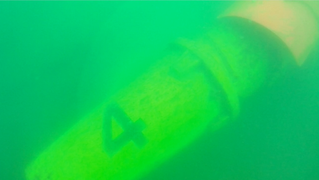4: (103, 103, 147, 155)
leak: (216, 1, 319, 66)
pipe: (25, 19, 294, 180)
